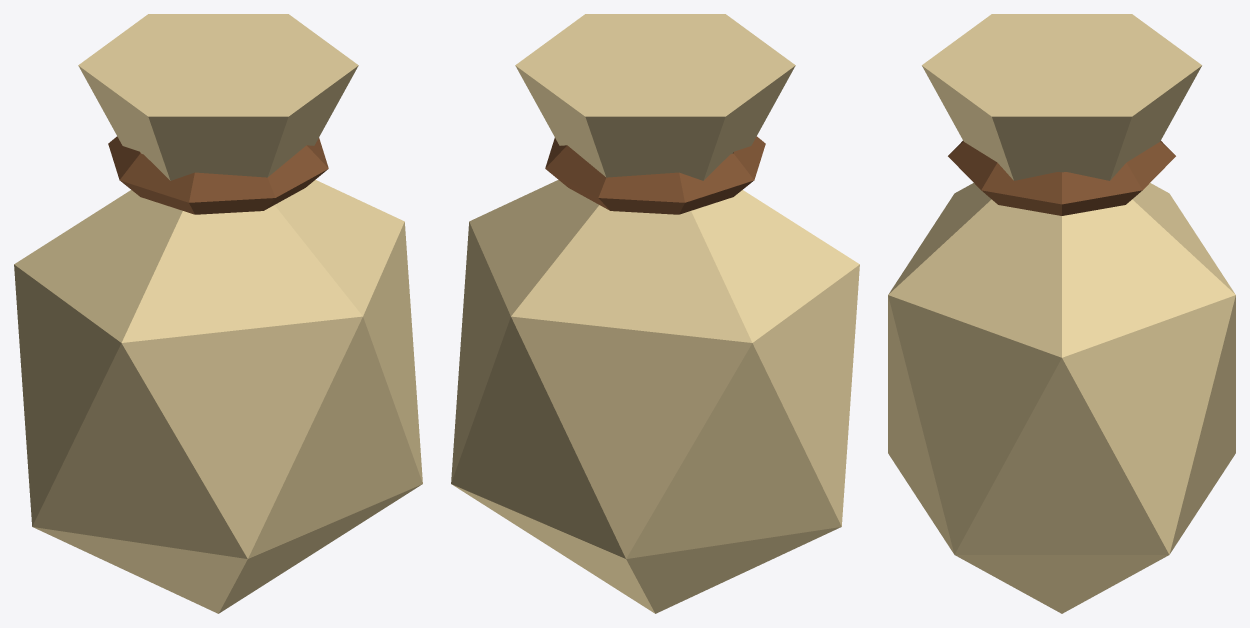
Rendered from tool_seed_bag.glb.
The picture shows the model from 3 angles, left to right: view 1: azimuth 30°, elevation 25°; view 2: azimuth 150°, elevation 25°; view 3: azimuth 270°, elevation 25°; orthographic projection.
Parts seen in each view (by area): view 1: tool_seed_bag; view 2: tool_seed_bag; view 3: tool_seed_bag.
Boxes of the visible parts, <box> form: tool_seed_bag: <box>14,14,422,613</box>; tool_seed_bag: <box>451,14,859,613</box>; tool_seed_bag: <box>888,14,1235,613</box>.
Bounding box in the file's own units: 0.2147 × 0.302 × 0.1735.
